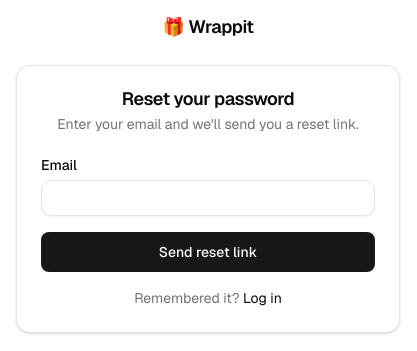
Scenario: ForgotPasswordPage › shows a confirmation once the reset email is sent
Step 1. Type "a@b.com" into the field labelled "Email" → coordinates (208, 198), box [41,180,375,216]
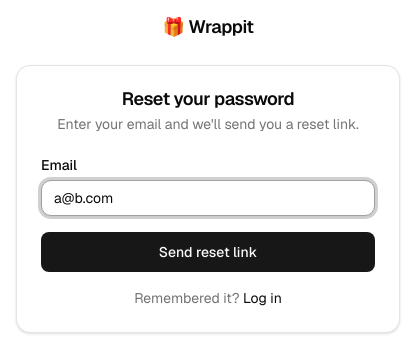
Step 2. Click the button "Send reset link" → coordinates (208, 252), box [41,232,375,272]
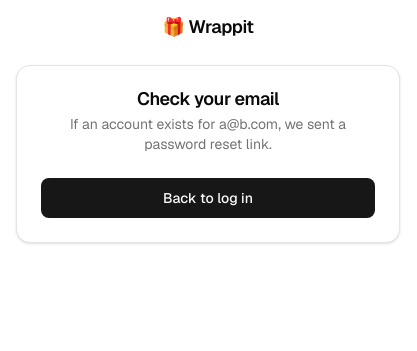
Result: the text "Check your email" is shown at [137,87,279,110]
Result: the text "If an account exists for a@b.com, we sent a password reset link." is shown at [70,115,346,153]
